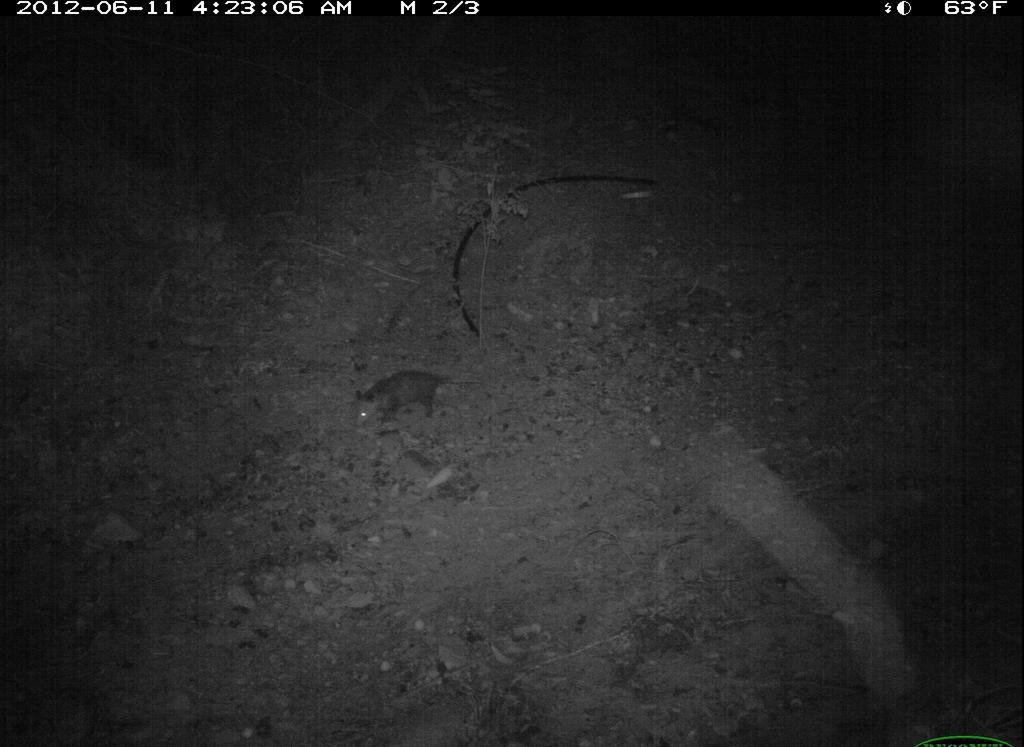opossum: (340, 363, 484, 438)
